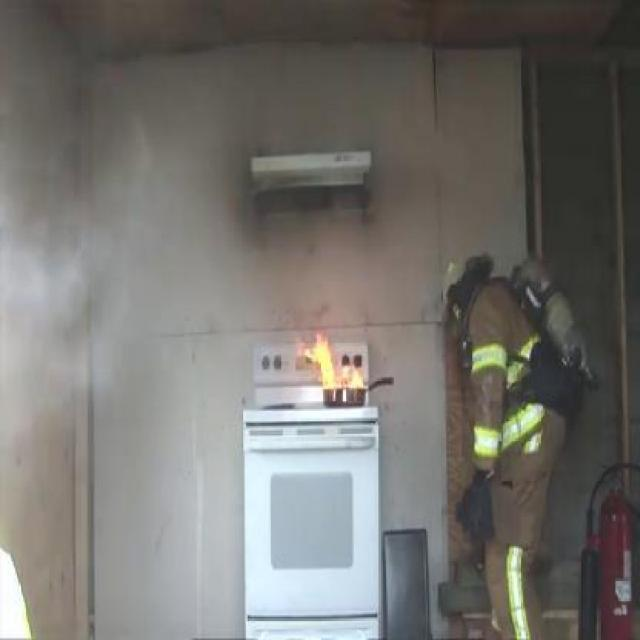fire: (300, 328, 368, 390)
smoke: (10, 220, 121, 394), (12, 224, 123, 396)
